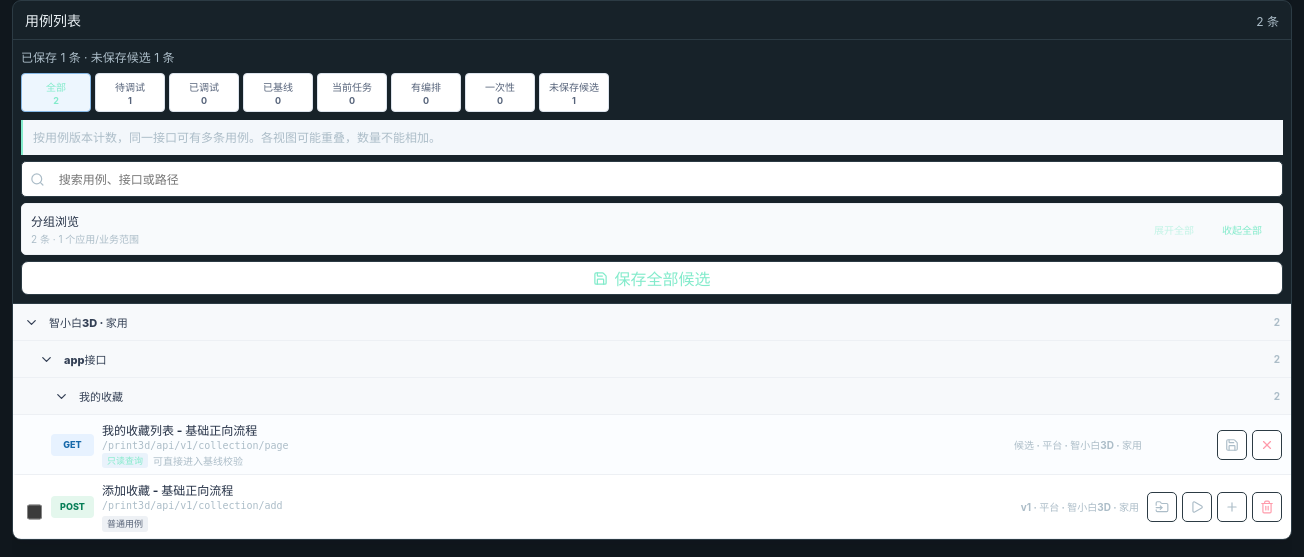
Test: CaseListPanel › explains overlapping progress counts and separates candidates from saved cases
expect the message with test id "case-view-guidance" shows "数量不能相加": met, box [33, 130, 441, 145]
What coordinates should you click on to do the following:
click the tab with test id "case-work-view-debugged"
I would click on:
 (204, 93)
Its box is [169, 73, 239, 112].
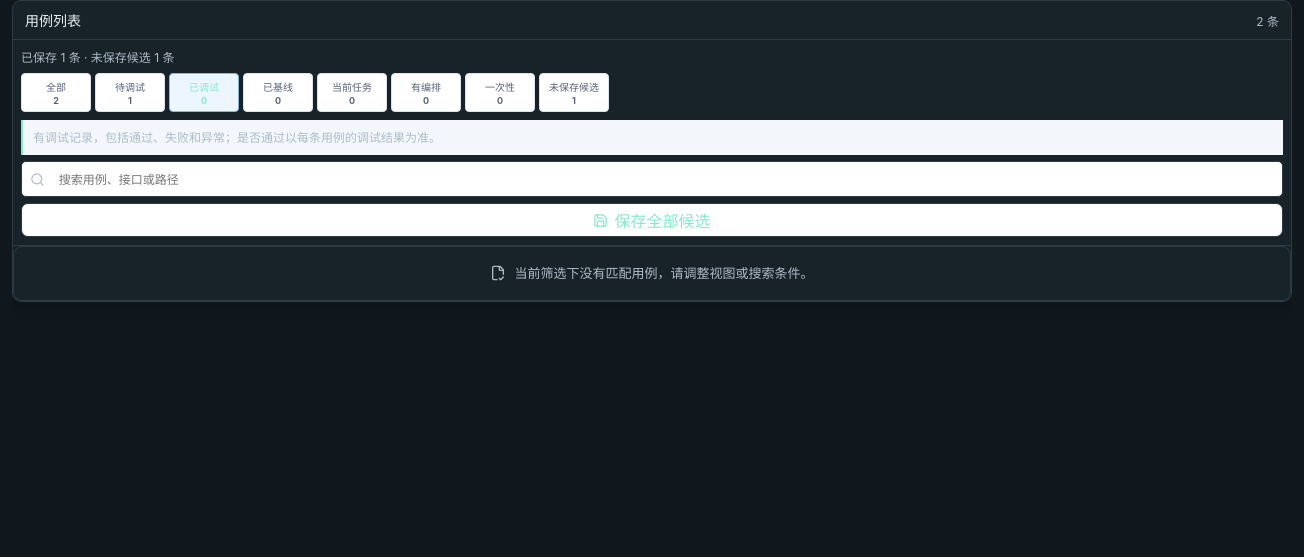
expect the message with test id "case-view-guidance" shows "包括通过、失败和异常": met, box [33, 130, 441, 145]
What coordinates should you click on to do the following:
click the tab with test id "case-work-view-candidate"
I would click on:
 (574, 93)
Its box is [539, 73, 609, 112].
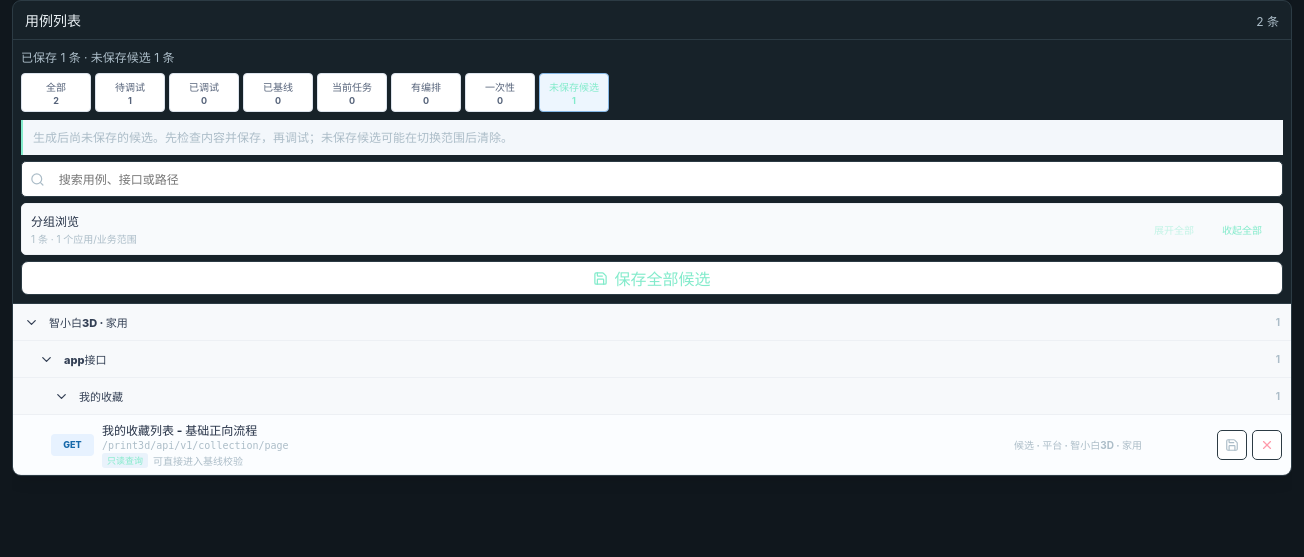
expect the message with test id "case-view-guidance" shows "先检查内容并保存": met, box [33, 130, 513, 145]
expect the text "我的收藏列表 - 基础正向流程" is shown: met, box [102, 423, 257, 438]
